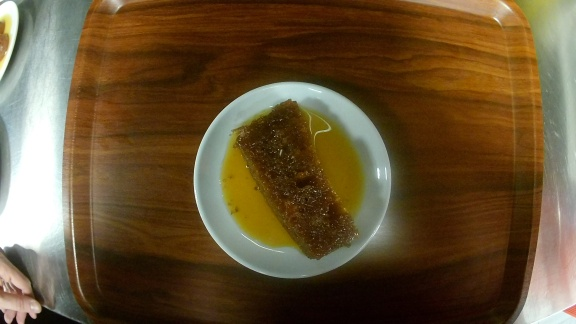ekmekkadayifi: (193, 81, 393, 279)
